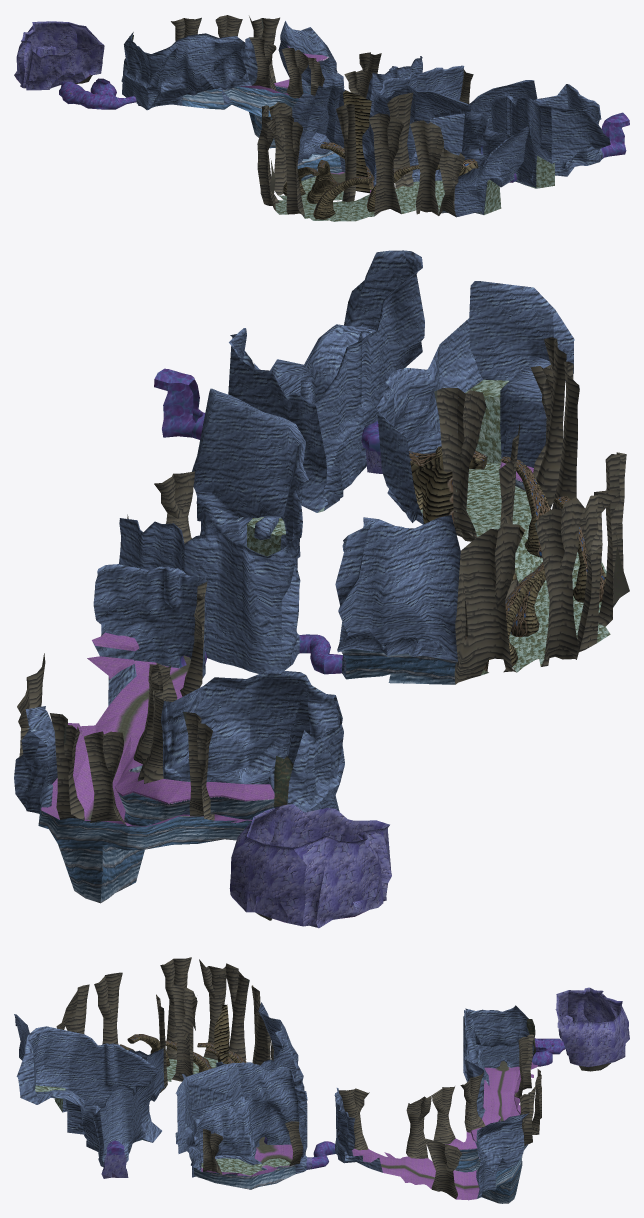
File: LevelMapTextured.obj
The picture shows the model from 3 angles, top to bottom: view 1: azimuth 30°, elevation 25°; view 2: azimuth 150°, elevation 25°; view 3: azimuth 270°, elevation 25°; orthographic projection. The views are drawn at different scales.
Visible parts, largest first — view 1: LevelMap; view 2: LevelMap; view 3: LevelMap.
Part boxes in pixels (x1,y1,x2,y2): LevelMap: [14, 15, 629, 221]; LevelMap: [14, 250, 629, 928]; LevelMap: [14, 957, 629, 1203].
Size of the model in its own units: 266 by 134 by 390.
